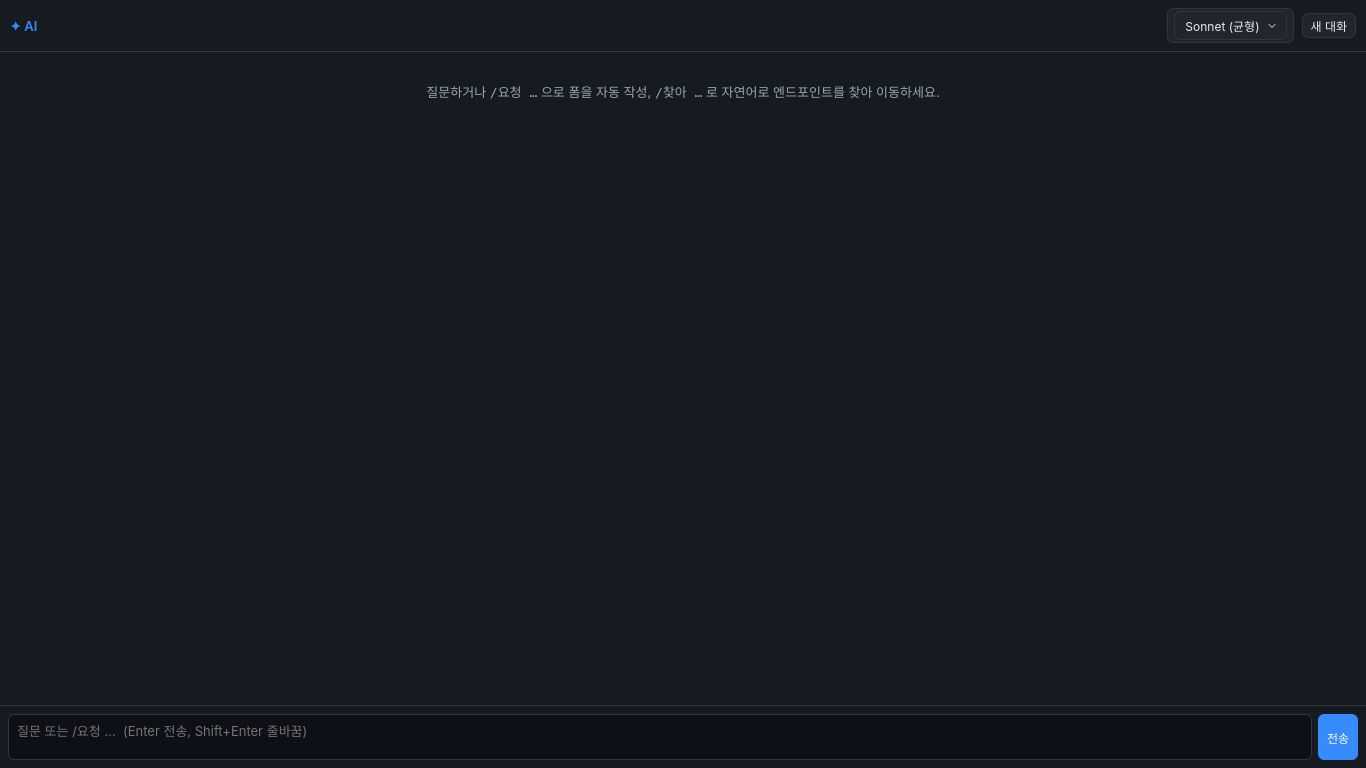
it: AiPanel › done 이벤트의 토큰 사용량을 답변 아래 표시한다
In the text box with placeholder "질문 또는 /요청 … (Enter 전송, Shift+Enter 줄바꿈)": (660, 737) [8,714,1312,760], type "안녕"
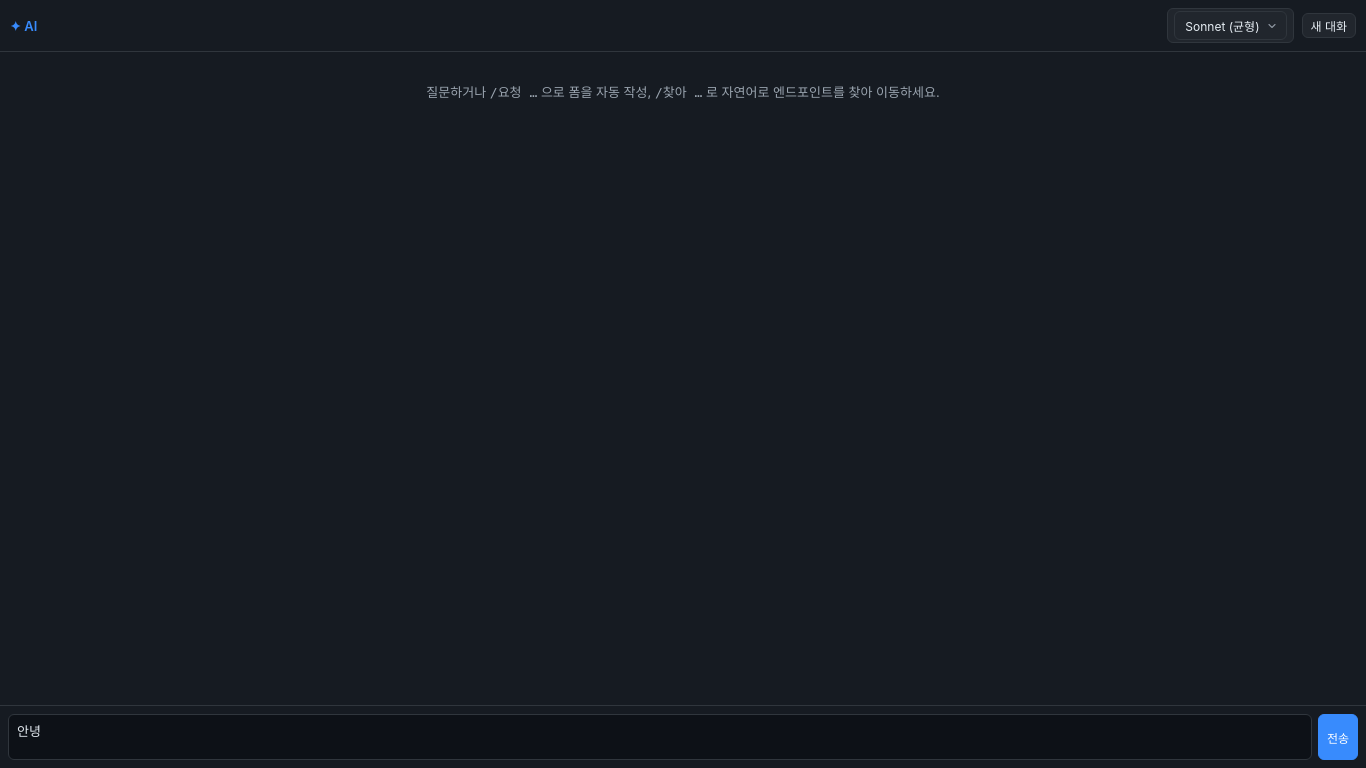
Click the button "전송": (1338, 737) [1318,714,1358,760]
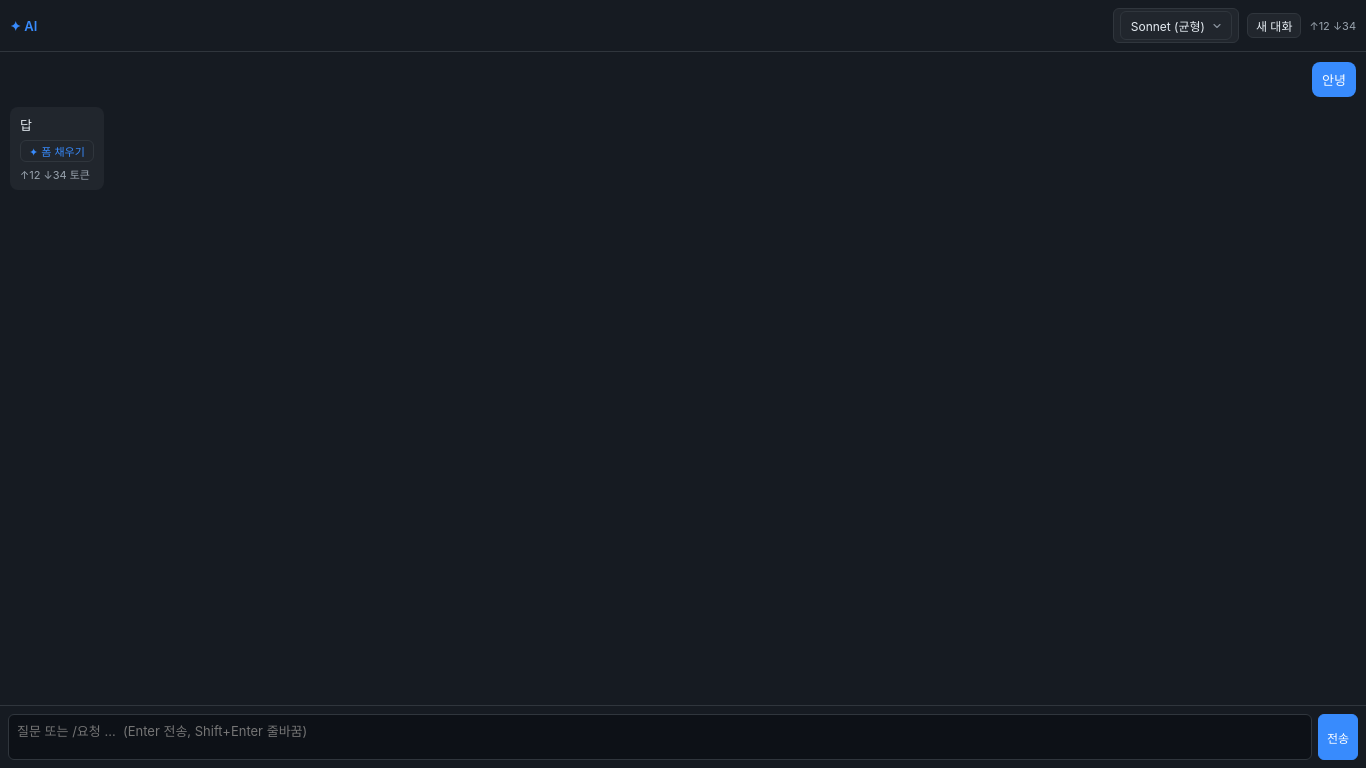
Result: the text "↑12 ↓34" is shown at [1309,18,1356,32]
